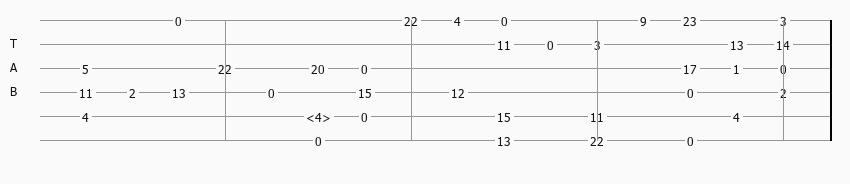0: (175, 14, 186, 27), (268, 86, 279, 99), (315, 134, 326, 147), (361, 62, 372, 75), (361, 110, 372, 123), (501, 14, 512, 27), (547, 38, 558, 51), (687, 134, 698, 147), (687, 86, 698, 99), (780, 62, 791, 75)
1: (733, 62, 744, 75)
11: (79, 86, 97, 99), (497, 38, 515, 51), (590, 110, 608, 123)
12: (451, 86, 469, 99)
13: (172, 86, 190, 99), (497, 134, 515, 147), (730, 38, 748, 51)
14: (776, 38, 794, 51)
15: (358, 86, 376, 99), (497, 110, 515, 123)
17: (683, 62, 701, 75)
2: (129, 86, 140, 99), (780, 86, 791, 99)
20: (311, 62, 329, 75)
22: (218, 62, 236, 75), (404, 14, 422, 27), (590, 134, 608, 147)
23: (683, 14, 701, 27)
3: (594, 38, 605, 51), (780, 14, 791, 27)
4: (82, 110, 93, 123), (454, 14, 465, 27), (733, 110, 744, 123)
5: (82, 62, 93, 75)
9: (640, 14, 651, 27)
harmonic: (306, 110, 335, 123)
